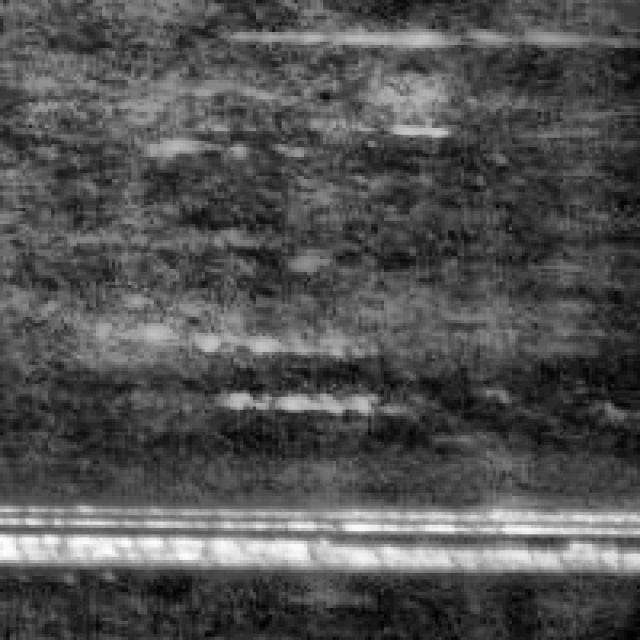Inclusion: (0, 480, 634, 573)
